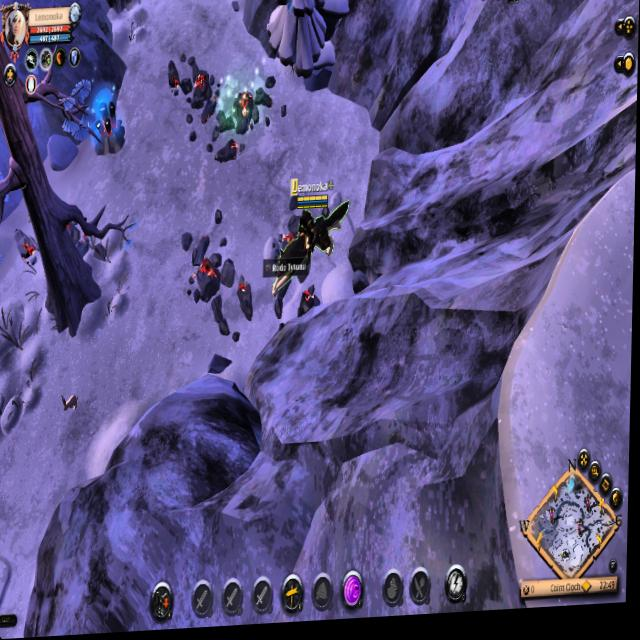ore tier 5: (92, 97, 127, 160)
